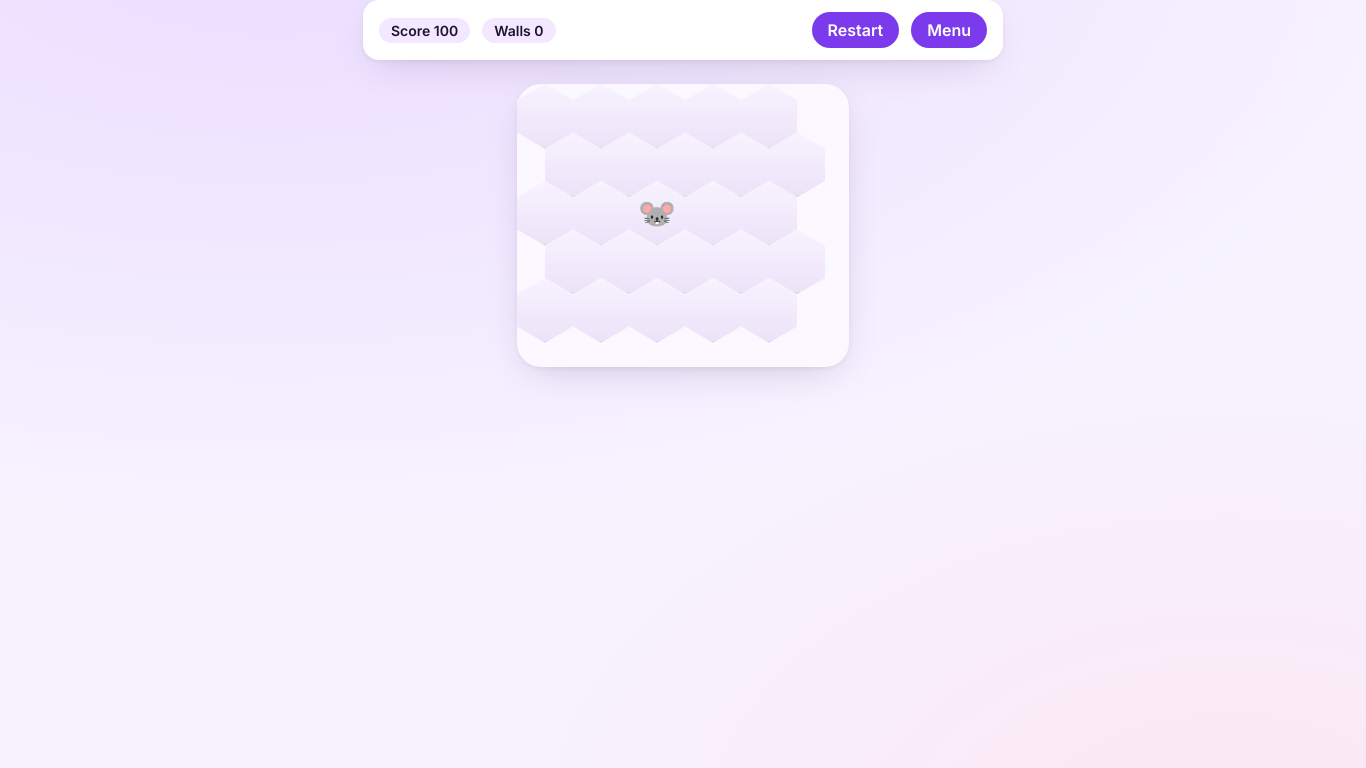
Test case: <Game /> › places a wall, deducts score, and moves the mouse
Click the cell named "Empty cell 0,0" at x=545, y=116, box x1=517 y1=84 x2=573 y2=149
Wait 500 ms
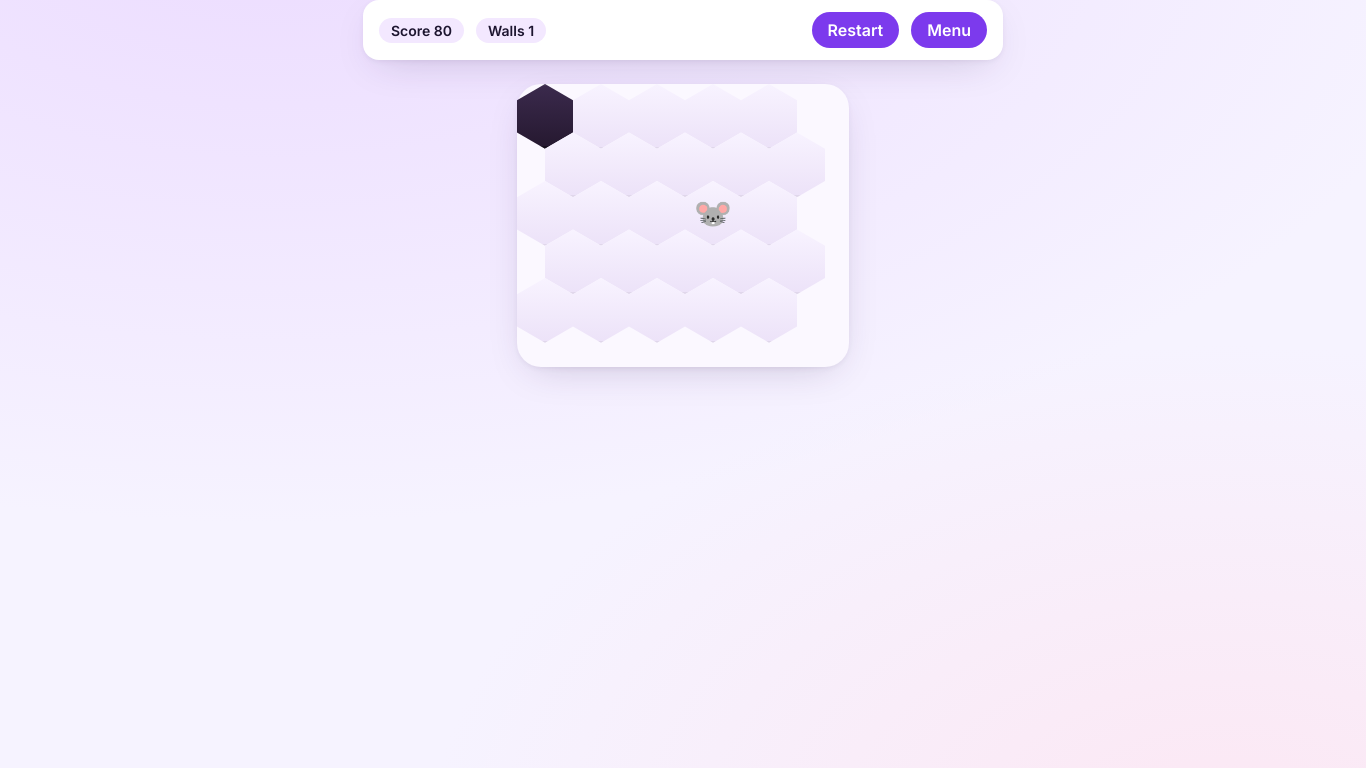
Expected: the text "Walls 1" is shown, x1=476 y1=18 x2=546 y2=42
Expected: the text "Score 100" is gone
